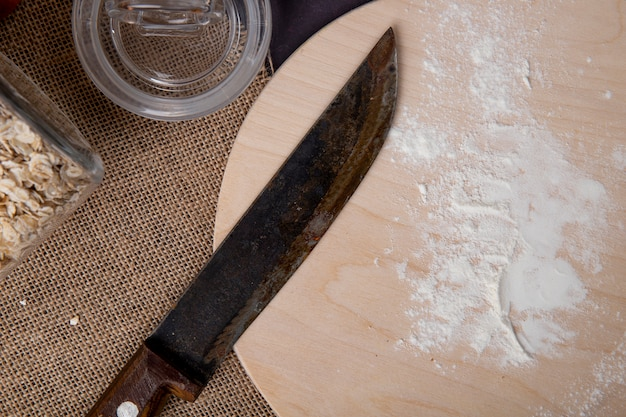knife: (84, 27, 398, 417)
